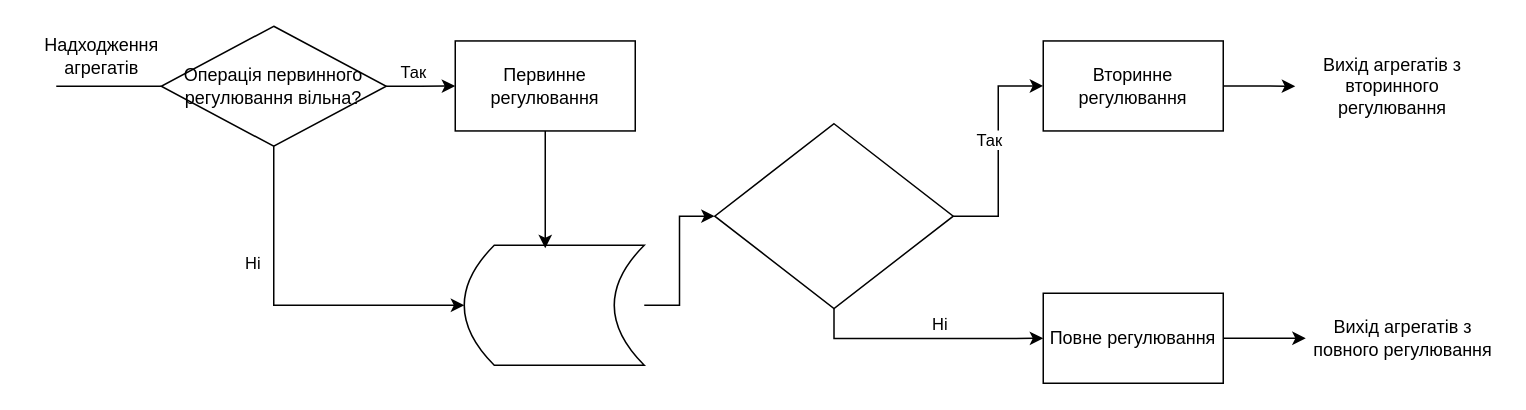
This 1526x410 diagram has some shape labels left out. Here are the shapes that lost their labels. From the top down, the centre of each, then its label:
At (833,215): "Агрегати пройшли первинне регулювання?".
At (553,304): "Накопичувач".
